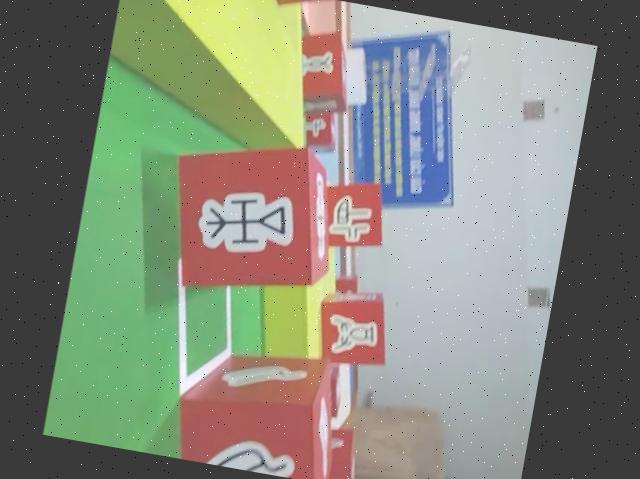R2 Real: (151, 126, 352, 308), (165, 334, 352, 479), (309, 285, 400, 375), (282, 23, 364, 120), (308, 168, 396, 256)
